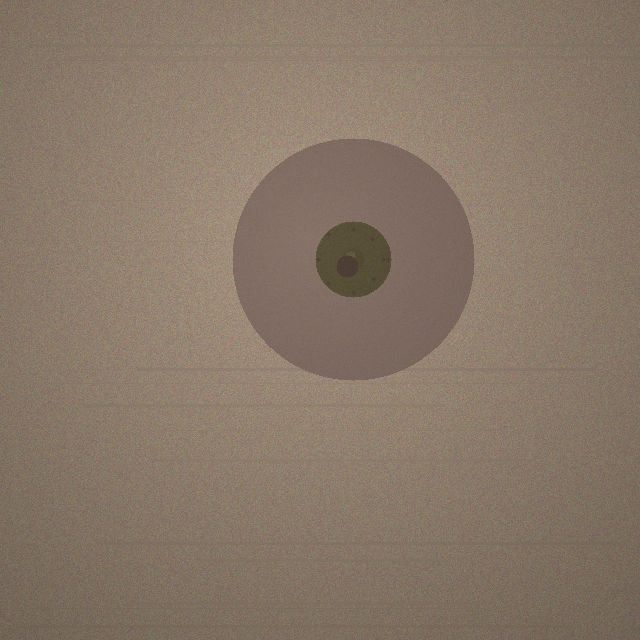cold_weld: (232, 138, 474, 380)
